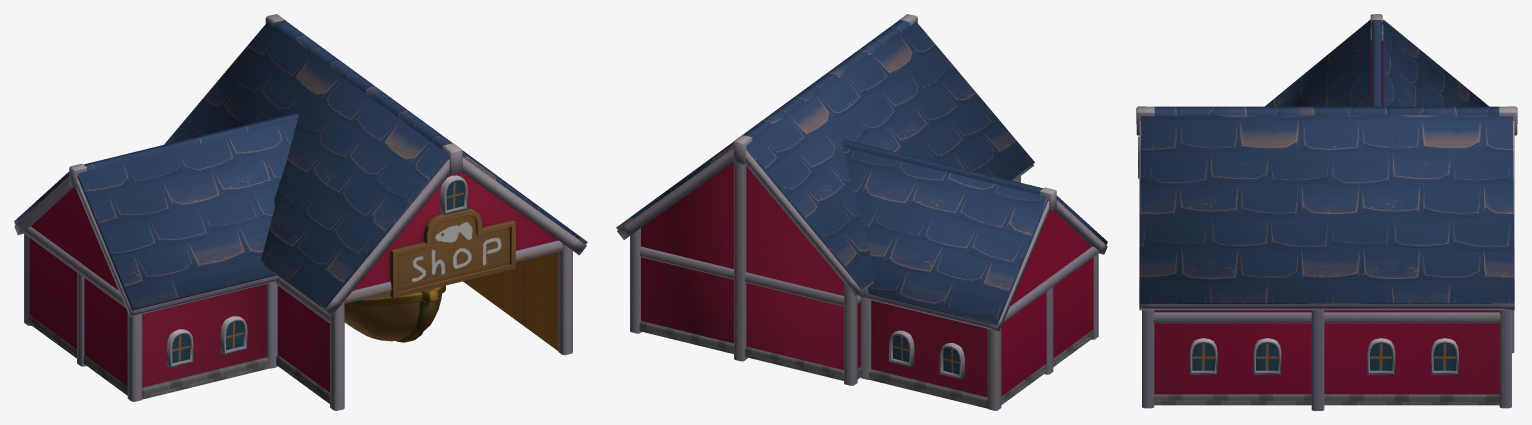
The model's file is ship_shop 1.fbx.
3 renders of one model, left to right at view 1: azimuth 30°, elevation 25°; view 2: azimuth 150°, elevation 25°; view 3: azimuth 270°, elevation 25°, orthographic. The views are drawn at different scales.
Visible parts, largest first — view 1: shop.002, shop.003, asset_aquarium9.003, Cube.002, asset_aquarium8.009, asset_aquarium8.012, asset_aquarium9.004, asset_aquarium5.004, asset_aquarium2.009, asset_aquarium8.016, asset_aquarium8.010, asset_aquarium5.005 (+5 smaller); view 2: shop.002, asset_aquarium9.003, asset_aquarium8.012, asset_aquarium8.013, asset_aquarium8.009, asset_aquarium9.004, asset_aquarium2.010, asset_aquarium8.010, asset_aquarium5.004, asset_aquarium2.009, asset_aquarium8.016, asset_aquarium2.011 (+2 smaller); view 3: shop.002, asset_aquarium8.011, asset_aquarium2.008, asset_aquarium9.003, asset_aquarium8.009, asset_aquarium5.006, asset_aquarium5.007, asset_aquarium8.014, asset_aquarium14.002.
Boxes of the visible parts, x1,y1,x2,y2 form: shop.002: (14, 18, 587, 392); shop.003: (345, 246, 563, 350); asset_aquarium9.003: (264, 157, 586, 315); Cube.002: (344, 285, 445, 342); asset_aquarium8.009: (330, 243, 572, 410); asset_aquarium8.012: (24, 234, 277, 401); asset_aquarium9.004: (14, 176, 280, 316); asset_aquarium5.004: (166, 316, 247, 368); asset_aquarium2.009: (142, 357, 269, 399); asset_aquarium8.016: (22, 226, 125, 307); asset_aquarium8.010: (344, 240, 562, 303); asset_aquarium5.005: (440, 175, 467, 214); shop.002: (616, 19, 1107, 397); asset_aquarium9.003: (617, 148, 1033, 296); asset_aquarium8.012: (861, 253, 1098, 410); asset_aquarium8.013: (734, 162, 747, 361); asset_aquarium8.009: (630, 176, 1020, 385); asset_aquarium9.004: (858, 200, 1107, 331); asset_aquarium2.010: (639, 321, 843, 380); asset_aquarium8.010: (640, 246, 843, 306); asset_aquarium5.004: (889, 330, 964, 379); asset_aquarium2.009: (868, 369, 987, 408); asset_aquarium8.016: (1003, 246, 1099, 322); asset_aquarium2.011: (1001, 329, 1094, 404); shop.002: (1139, 19, 1514, 394); asset_aquarium8.011: (1153, 312, 1500, 323); asset_aquarium2.008: (1153, 394, 1500, 405); asset_aquarium9.003: (1139, 121, 1514, 310); asset_aquarium8.009: (1142, 310, 1511, 408); asset_aquarium5.006: (1189, 338, 1281, 374); asset_aquarium5.007: (1367, 338, 1458, 374); asset_aquarium8.014: (1311, 310, 1324, 410); asset_aquarium14.002: (1136, 106, 1517, 135).
Bounding box in the file's own units: 1631 × 915 × 1312.
5 materials, 5 textured.
